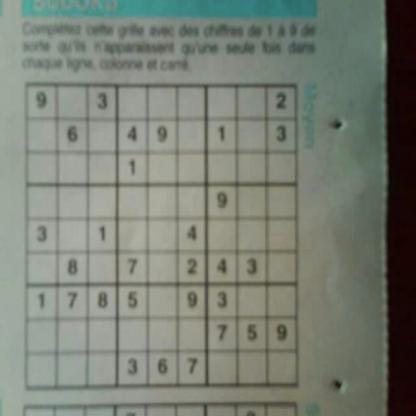sudoku: (21, 77, 304, 394)
